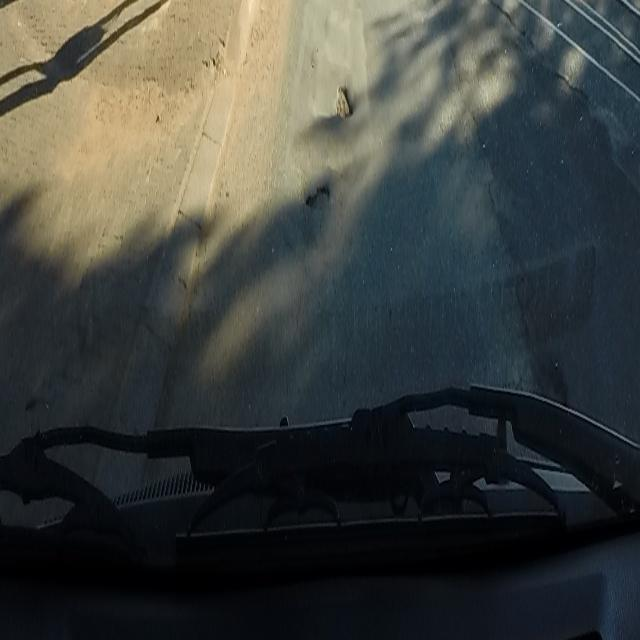pothole: (306, 178, 330, 218), (336, 80, 354, 124)
